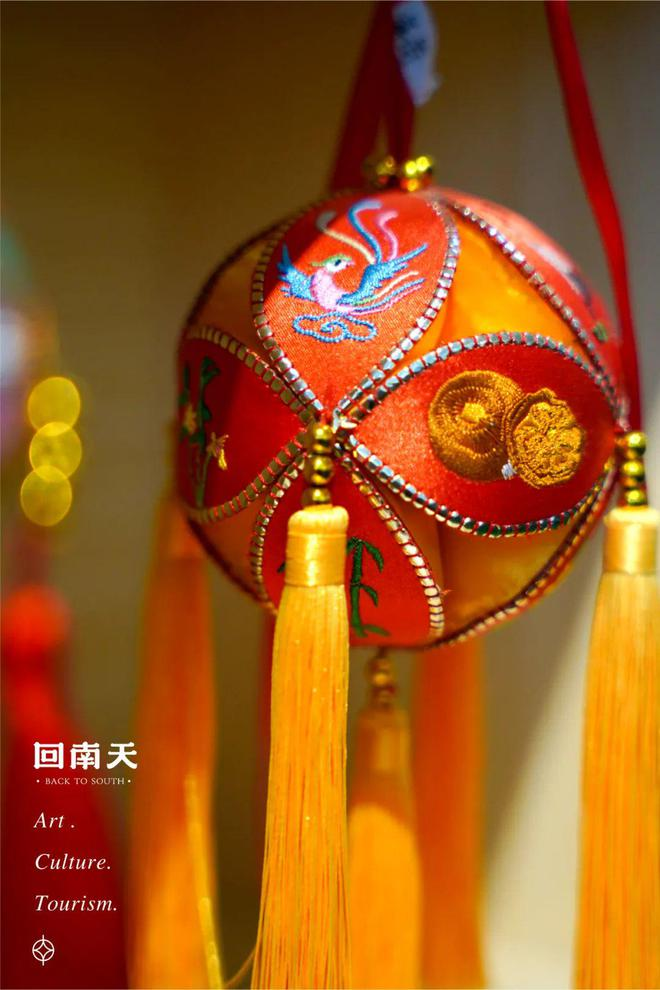xiuqiu: (176, 187, 638, 652)
